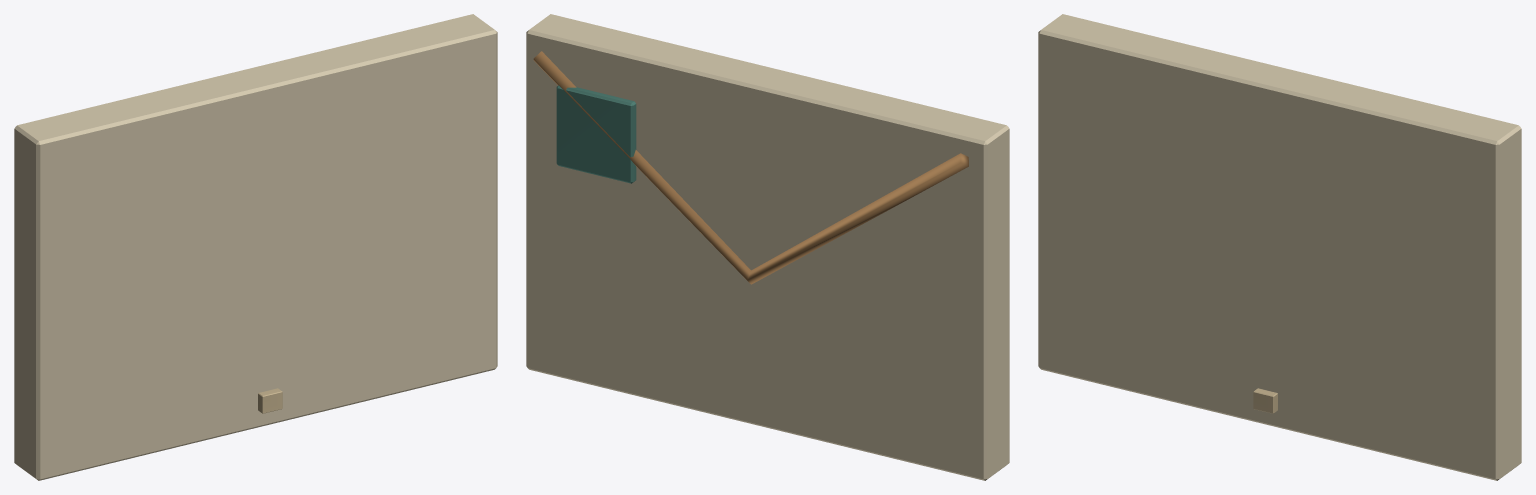
File: letter_low.glb
3 renders of one model, left to right at view 1: azimuth 30°, elevation 25°; view 2: azimuth 150°, elevation 25°; view 3: azimuth 330°, elevation 25°, orthographic.
Bounding box in the file's own units: 0.27 × 0.19 × 0.038.
